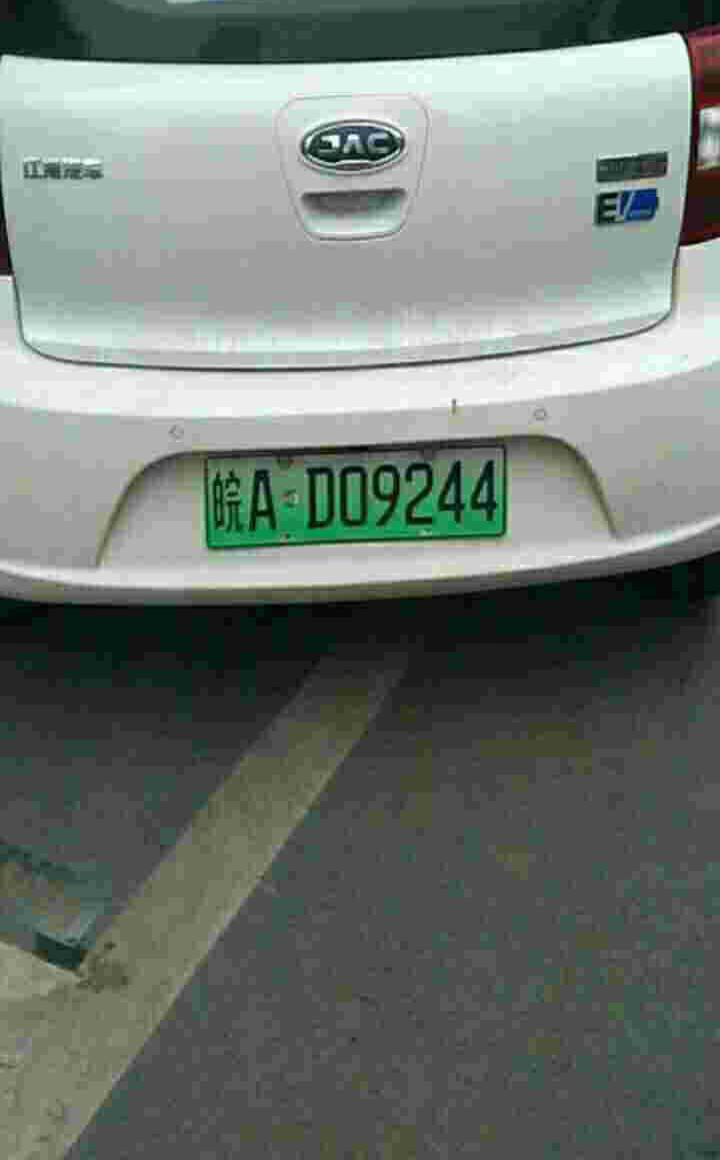car_green: (200, 451, 535, 555)
